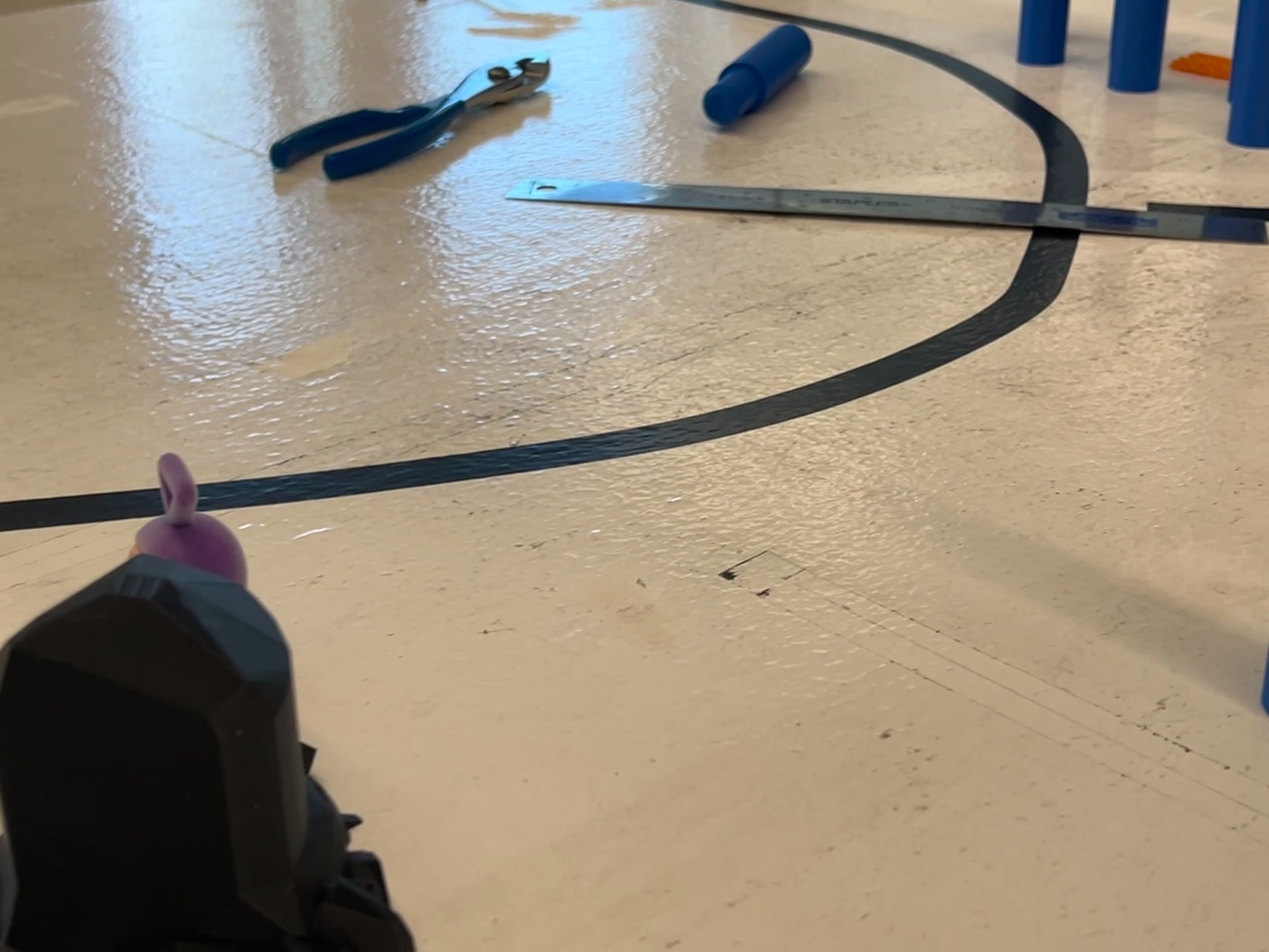teletubby: (129, 452, 247, 586)
